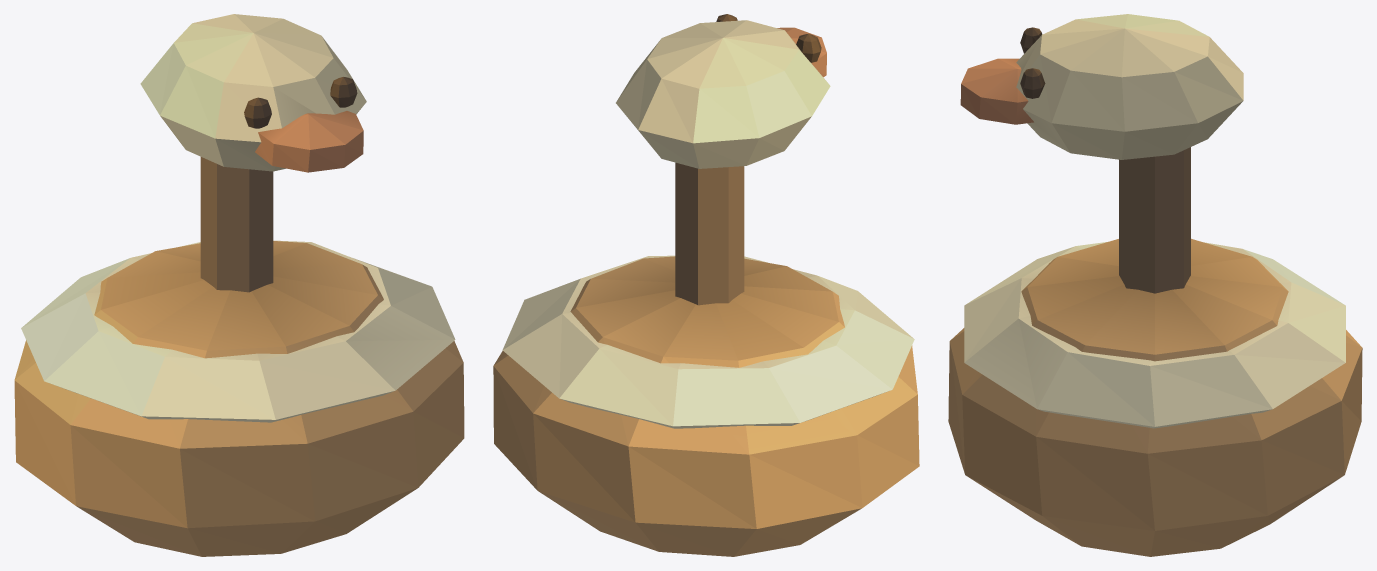
Rendered from furniture_entenboje.glb.
3 renders of one model, left to right at view 1: azimuth 30°, elevation 25°; view 2: azimuth 150°, elevation 25°; view 3: azimuth 270°, elevation 25°, orthographic. The views are drawn at different scales.
Parts seen in each view (by area): view 1: furniture_entenboje; view 2: furniture_entenboje; view 3: furniture_entenboje.
Part boxes in pixels (x1,y1,x2,y2): furniture_entenboje: [14, 14, 464, 556]; furniture_entenboje: [493, 14, 919, 556]; furniture_entenboje: [948, 14, 1362, 556].
Bounding box in the file's own units: 0.7115 × 0.868 × 0.6604.
